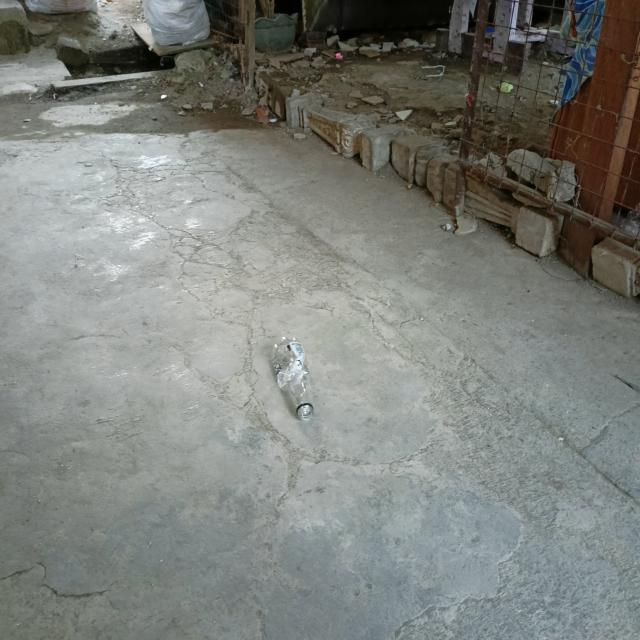Bottle: (272, 337, 314, 422)
